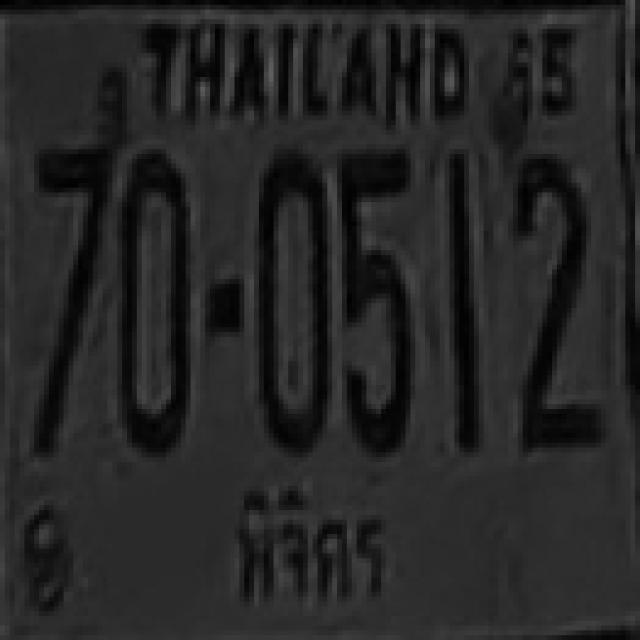0: (342, 253, 410, 450)
Phichit: (222, 480, 403, 612)
